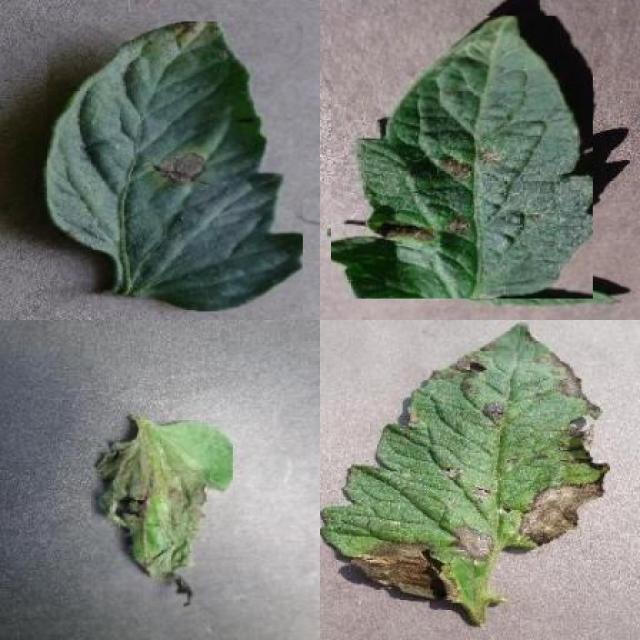Early Blight: (47, 21, 303, 312), (330, 15, 593, 298)
Late Blight: (320, 320, 610, 604), (90, 420, 233, 607)
